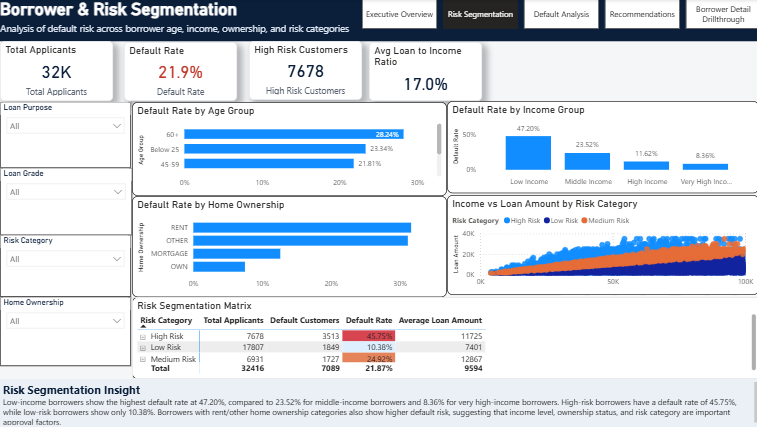

The dashboard page shown, as its layout file describes it:
{"tool":"powerbi","page":{"name":"Risk Segmentation","canvas":[1280,720],"ordinal":1},"visuals":[{"type":"shape","title":"Borrower & Risk Segmentation","box":[0,0,1280,70.6],"z":0},{"type":"card","title":"Total Applicants","fields":{"Values":["Credit Risk.Total Applicants"]},"box":[0,70.6,189.8,100.8],"z":1000},{"type":"card","title":"Default Rate","fields":{"Values":["Credit Risk.Default Rate"]},"box":[208.3,72.2,189.8,99.1],"z":2000},{"type":"card","title":"High Risk Customers","fields":{"Values":["Credit Risk.High Risk Customers"]},"box":[418.3,70.6,189.8,99.1],"z":3000},{"type":"card","title":"Avg Loan to Income Ratio","fields":{"Values":["Credit Risk.Average Loan to Income Ratio"]},"box":[619.8,72.2,189.8,99.1],"z":4000},{"type":"slicer","title":"Loan Purpose","fields":{"Values":["Credit Risk.Loan Purpose"]},"box":[0,173,220.1,110.9],"z":5000},{"type":"slicer","title":"Loan Grade","fields":{"Values":["Credit Risk.Loan Grade"]},"box":[0,283.9,221.7,112.5],"z":6000},{"type":"slicer","title":"Risk Category","fields":{"Values":["Credit Risk.Risk Category"]},"box":[0,396.4,220.1,104.1],"z":7000},{"type":"slicer","title":"Home Ownership","fields":{"Values":["Credit Risk.Home Ownership"]},"box":[0,500.6,220.1,115.9],"z":8000},{"type":"clusteredBarChart","title":"Default Rate by Age Group","fields":{"Category":["Credit Risk.Age Group"],"Y":["Credit Risk.Default Rate"]},"box":[221.7,173,529.1,157.9],"z":9000},{"type":"clusteredColumnChart","title":"Default Rate by Income Group","fields":{"Category":["Credit Risk.Income Group"],"Y":["Credit Risk.Default Rate"]},"box":[750.9,171.3,524.1,154.5],"z":10000},{"type":"clusteredBarChart","title":"Default Rate by Home Ownership","fields":{"Category":["Credit Risk.Home Ownership"],"Y":["Credit Risk.Default Rate"]},"box":[221.7,330.9,529.1,169.7],"z":11000},{"type":"pivotTable","title":"Risk Segmentation Matrix","fields":{"Rows":["Credit Risk.Risk Category","Credit Risk.Income Group"],"Values":["Credit Risk.Total Applicants","Credit Risk.Default Customers","Credit Risk.Default Rate","Credit Risk.Average Loan Amount"]},"box":[221.7,500.6,1058.3,137.7],"z":12000},{"type":"scatterChart","title":"Income vs Loan Amount by Risk Category","fields":{"Y":["Credit Risk.Loan Amount"],"X":["Credit Risk.Annual Income"],"Series":["Credit Risk.Risk Category"]},"box":[750.9,329.2,524.1,168],"z":13000},{"type":"textbox","box":[0,637.7,1280,82.3],"z":14000},{"type":"pageNavigator","box":[608.1,0,671.9,50.4],"z":15000}]}

Visuals, with their boxes in screenshot pixels (x1, y1, x2, y2), scaled from the page's 1280x720 canvas onto the 757x427 screenshot:
"Borrower & Risk Segmentation" shape: select_region(0, 0, 756, 42)
"Total Applicants" card: select_region(0, 42, 112, 102)
"Default Rate" card: select_region(123, 43, 235, 102)
"High Risk Customers" card: select_region(247, 42, 360, 101)
"Avg Loan to Income Ratio" card: select_region(367, 43, 479, 102)
"Loan Purpose" slicer: select_region(0, 103, 130, 168)
"Loan Grade" slicer: select_region(0, 168, 131, 235)
"Risk Category" slicer: select_region(0, 235, 130, 297)
"Home Ownership" slicer: select_region(0, 297, 130, 366)
"Default Rate by Age Group" clusteredBarChart: select_region(131, 103, 444, 196)
"Default Rate by Income Group" clusteredColumnChart: select_region(444, 102, 754, 193)
"Default Rate by Home Ownership" clusteredBarChart: select_region(131, 196, 444, 297)
"Risk Segmentation Matrix" pivotTable: select_region(131, 297, 756, 379)
"Income vs Loan Amount by Risk Category" scatterChart: select_region(444, 195, 754, 295)
textbox: select_region(0, 378, 756, 426)
pageNavigator: select_region(360, 0, 756, 30)
